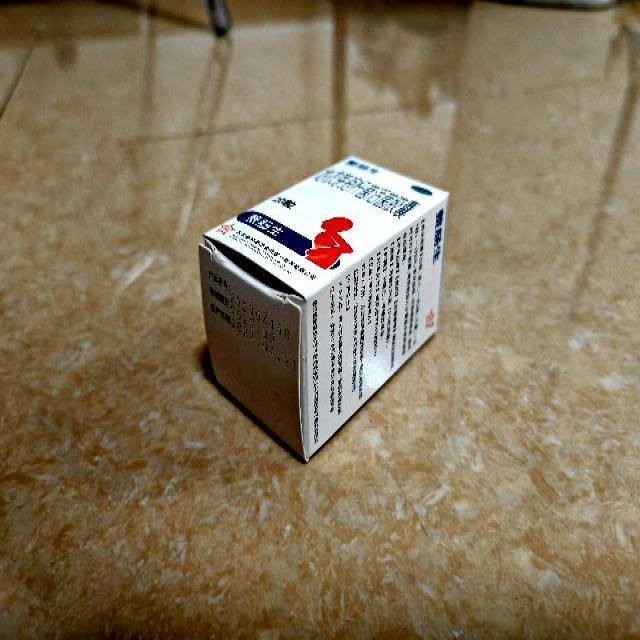box: (200, 156, 450, 462)
